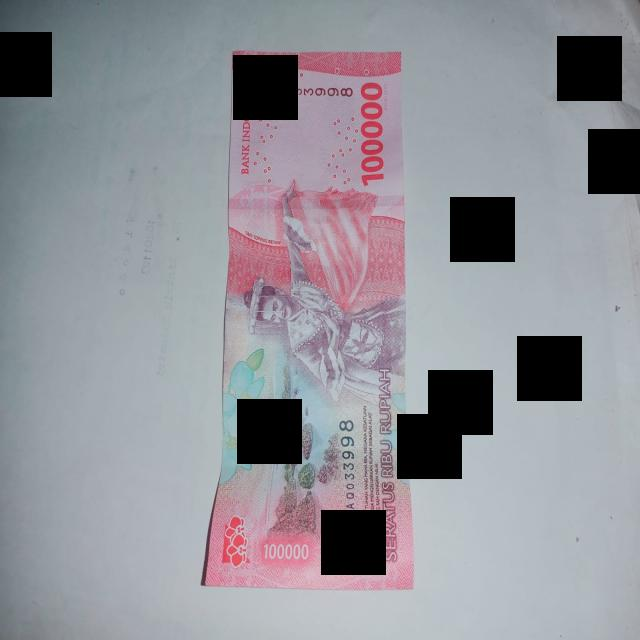seratusribu rupiah: (202, 52, 414, 589)
